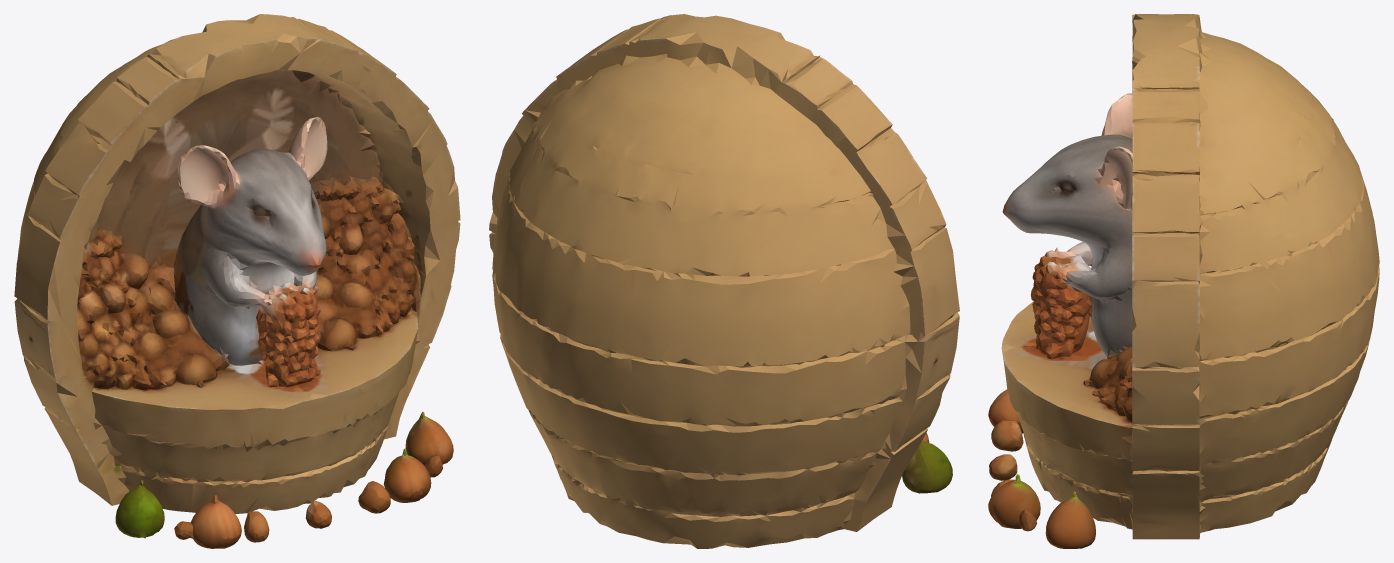
3 renders of one model, left to right at view 1: azimuth 30°, elevation 25°; view 2: azimuth 150°, elevation 25°; view 3: azimuth 270°, elevation 25°, orthographic. The views are drawn at different scales.
Parts seen in each view (by area): view 1: 017; view 2: 017; view 3: 017.
Boxes of the visible parts, x1,y1,x2,y2 form: 017: (14, 14, 460, 548); 017: (489, 14, 959, 548); 017: (988, 14, 1379, 548).
Bounding box in the file's own units: 1.88 × 1.9 × 1.52.
Materials: 1 (1 with a texture image).
